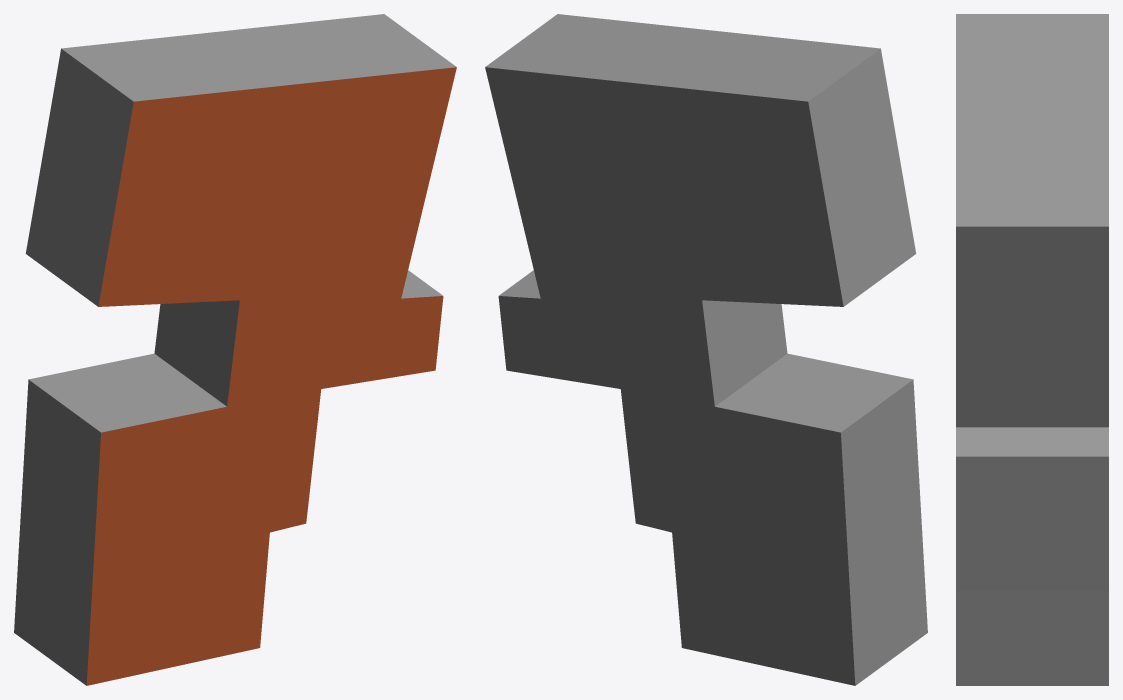
The model's file is construction_5979_assumed_A_Casa_h6m.obj.
3 views of the same model, side by side, from view 1: azimuth 30°, elevation 25°; view 2: azimuth 150°, elevation 25°; view 3: azimuth 270°, elevation 25° (orthographic). The views are drawn at different scales.
Visible parts, largest first — view 1: construction_5979_assumed_A_Casa; view 2: construction_5979_assumed_A_Casa; view 3: construction_5979_assumed_A_Casa.
Part boxes in pixels (bbox=[...]): construction_5979_assumed_A_Casa: bbox=[14, 14, 456, 685]; construction_5979_assumed_A_Casa: bbox=[485, 14, 927, 685]; construction_5979_assumed_A_Casa: bbox=[956, 14, 1108, 685].
Bounding box in the file's own units: 17.66 × 26.3 × 6.
